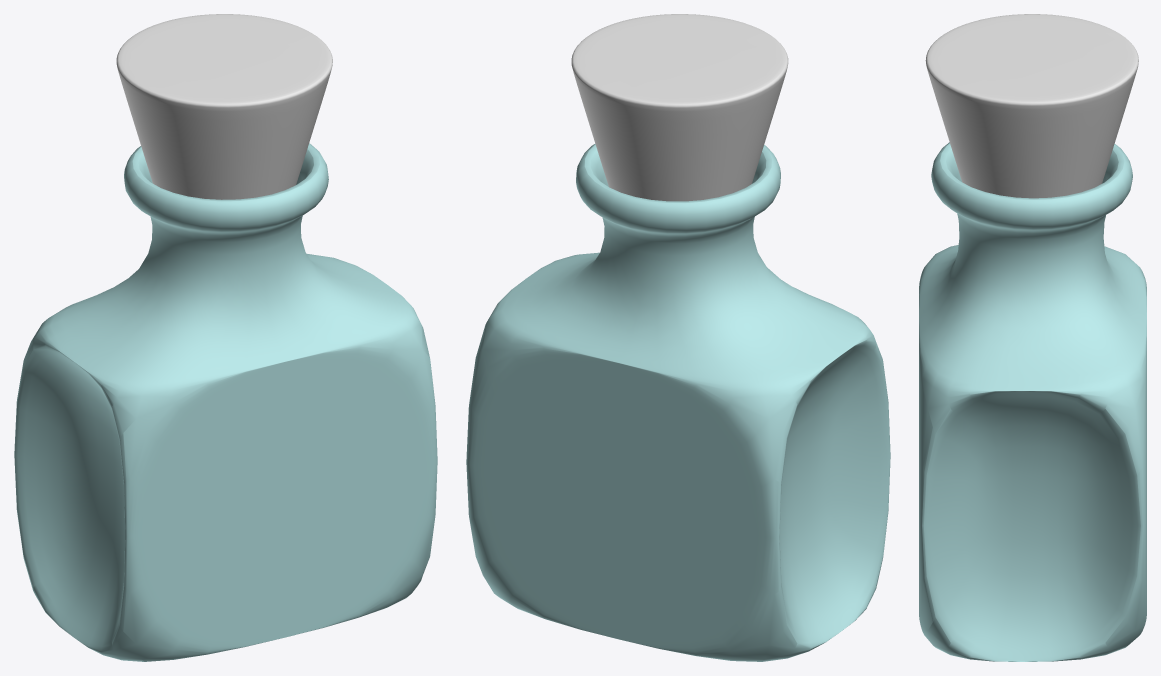
File: potiunecubmodcol.fbx
3 views of the same model, side by side, from view 1: azimuth 30°, elevation 25°; view 2: azimuth 150°, elevation 25°; view 3: azimuth 270°, elevation 25° (orthographic).
Visible parts, largest first — view 1: Glass, Lid; view 2: Glass, Lid; view 3: Glass, Lid.
Boxes of the visible parts, <box> form: Glass: <box>14,143,437,661</box>; Lid: <box>116,14,332,199</box>; Glass: <box>466,144,890,661</box>; Lid: <box>571,14,788,201</box>; Glass: <box>919,142,1146,661</box>; Lid: <box>925,14,1138,198</box>.
Size of the model in its own units: 632 by 1034 by 404.
